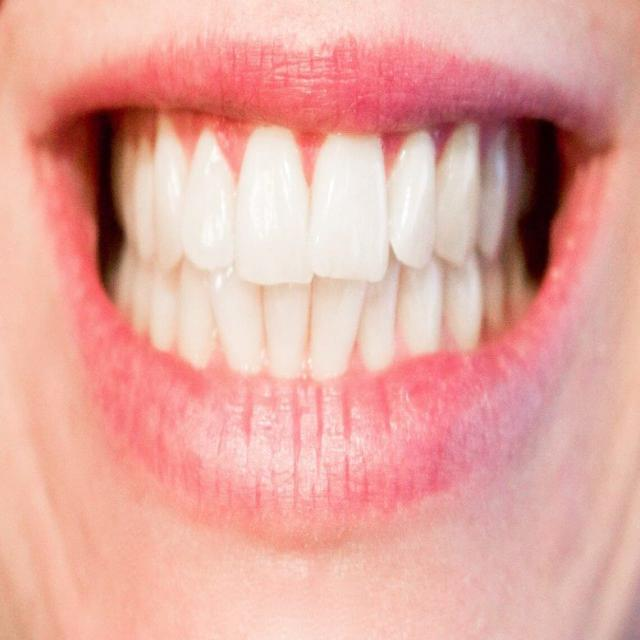tooth: (234, 121, 312, 292), (309, 128, 386, 283), (184, 118, 240, 286), (147, 115, 197, 271), (390, 138, 436, 271), (432, 141, 478, 260), (214, 282, 262, 383), (170, 278, 221, 369), (311, 273, 351, 386), (403, 272, 449, 360), (477, 134, 510, 254), (355, 265, 398, 357), (442, 262, 484, 353), (105, 118, 136, 236), (267, 287, 308, 375), (128, 161, 156, 265), (477, 261, 517, 333), (504, 141, 531, 236), (148, 285, 176, 363), (499, 238, 528, 313), (128, 279, 153, 340), (109, 252, 128, 313)
